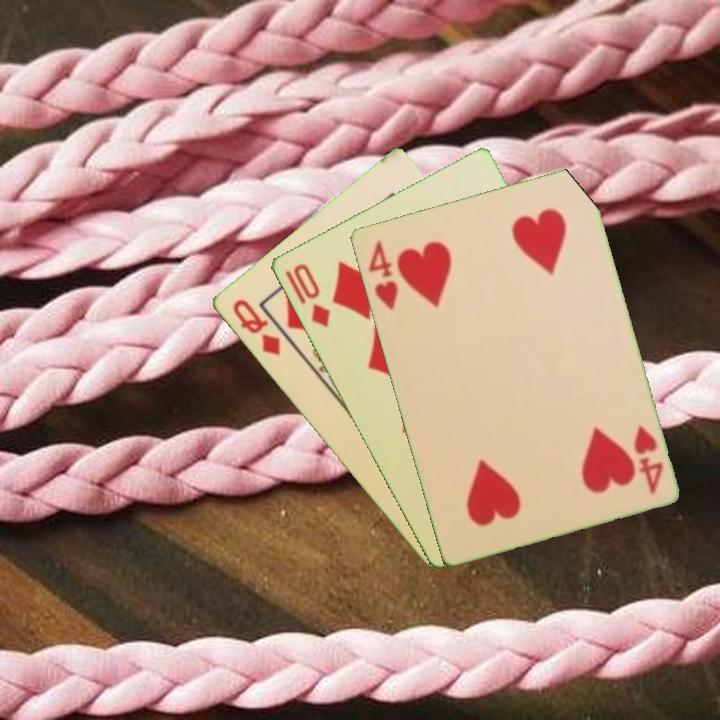10d: (289, 259, 333, 330)
4h: (629, 421, 666, 497), (364, 237, 401, 312)
Qd: (228, 295, 283, 359)
